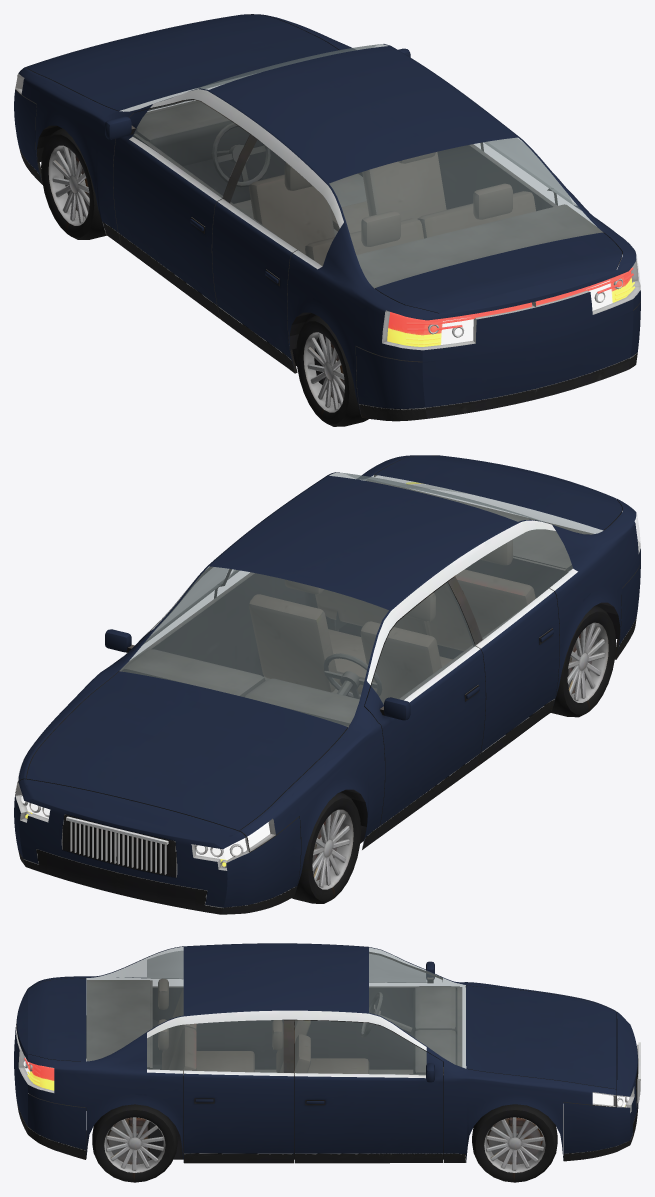
Rendered from luxury_sedan.glb.
3 renders of one model, top to bottom at view 1: azimuth 30°, elevation 25°; view 2: azimuth 150°, elevation 25°; view 3: azimuth 270°, elevation 25°, orthographic. The views are drawn at different scales.
Visible parts, largest first — view 1: lod0, window_rear, door_fl, bumper_r, hood, trunk, window_l, wheel_rl_mesh, wheel_fl_mesh, bumper_f, window_r, steering_wheel_mesh (+1 smaller); view 2: lod0, hood, window_front, bumper_f, door_fl, trunk, window_l, wheel_fl_mesh, wheel_rl_mesh, window_rear, door_fr, bumper_r (+1 smaller); view 3: lod0, door_fr, hood, window_rear, window_front, window_r, bumper_f, wheel_fr, trunk, wheel_rr, bumper_r, door_fl (+2 smaller).
Boxes of the visible parts, x1,y1,x2,y2 form: lod0: [15, 14, 640, 416]; window_rear: [329, 137, 602, 287]; door_fl: [105, 99, 251, 318]; bumper_r: [356, 302, 640, 421]; hood: [26, 14, 342, 110]; trunk: [375, 232, 622, 313]; window_l: [230, 140, 339, 265]; wheel_rl_mesh: [296, 315, 368, 426]; wheel_fl_mesh: [41, 128, 106, 239]; bumper_f: [14, 24, 187, 184]; window_r: [484, 138, 572, 204]; steering_wheel_mesh: [211, 122, 270, 187]; lod0: [15, 455, 640, 894]; hood: [26, 671, 347, 831]; window_front: [120, 566, 388, 726]; bumper_f: [14, 779, 300, 914]; door_fl: [364, 582, 485, 838]; trunk: [375, 455, 622, 530]; window_l: [455, 529, 572, 639]; wheel_fl_mesh: [292, 792, 360, 903]; wheel_rl_mesh: [551, 605, 616, 717]; window_rear: [329, 472, 602, 534]; door_fr: [105, 566, 228, 660]; bumper_r: [615, 561, 640, 659]; lod0: [14, 943, 616, 1163]; door_fr: [294, 1020, 442, 1163]; hood: [466, 985, 616, 1089]; window_rear: [86, 947, 183, 1061]; window_front: [369, 947, 465, 1068]; window_r: [147, 1020, 283, 1072]; bumper_f: [563, 1012, 640, 1161]; wheel_fr: [472, 1104, 557, 1182]; trunk: [17, 978, 86, 1061]; wheel_rr: [92, 1104, 177, 1182]; bumper_r: [14, 1057, 86, 1159]; door_fl: [369, 952, 442, 983].
Size of what is drawn, in the model's own units: 2.13 by 1.48 by 5.13.
10 materials, 8 textured.
